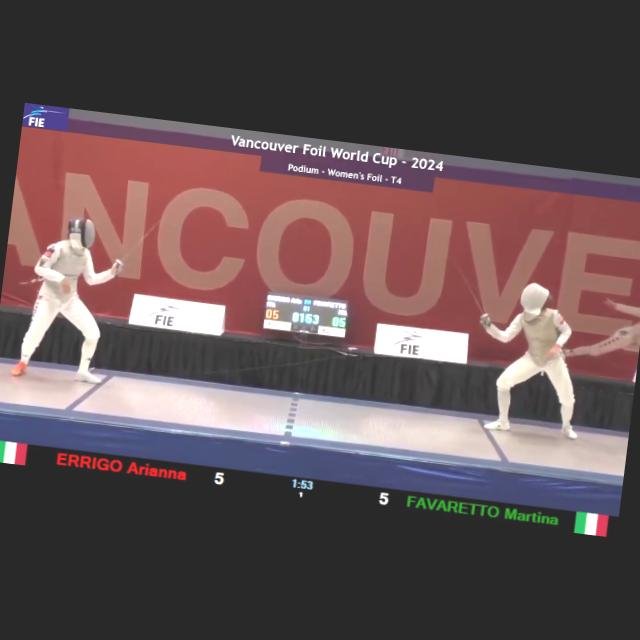blade: (442, 257, 497, 325), (114, 209, 167, 272)
